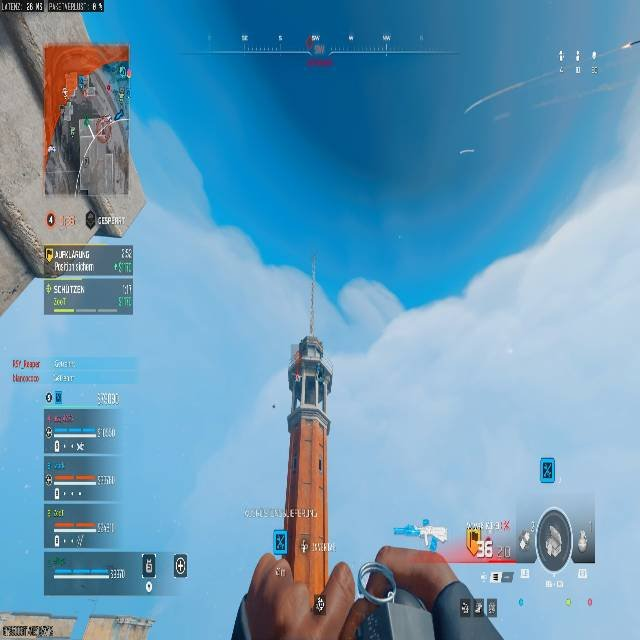head: (270, 526, 289, 555)
